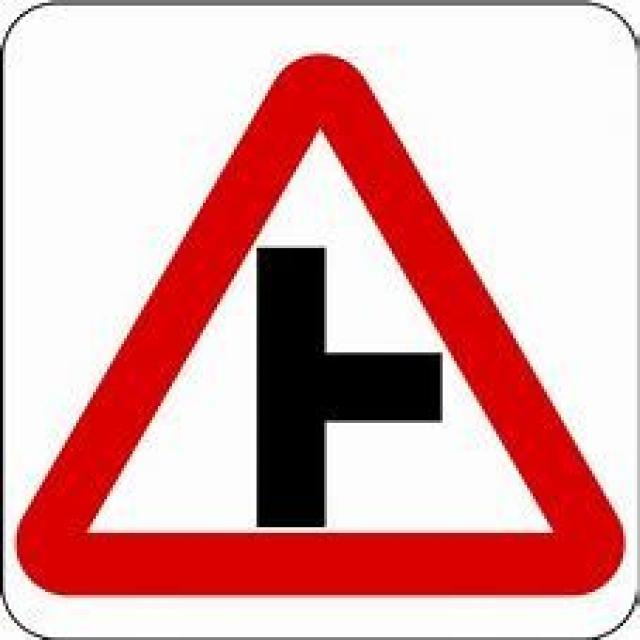side road right: (17, 52, 624, 599)
